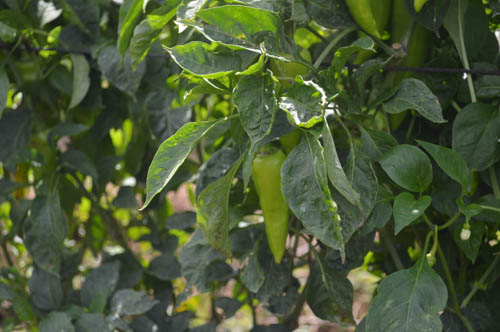ChiliPepper: (389, 15, 434, 135), (251, 152, 293, 266), (270, 49, 312, 158), (355, 5, 388, 69), (354, 3, 377, 36)
